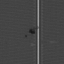dust: (27, 28, 36, 34), (23, 33, 28, 38)
